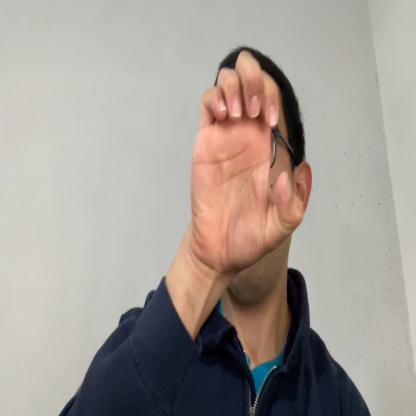E: (190, 48, 304, 282)
